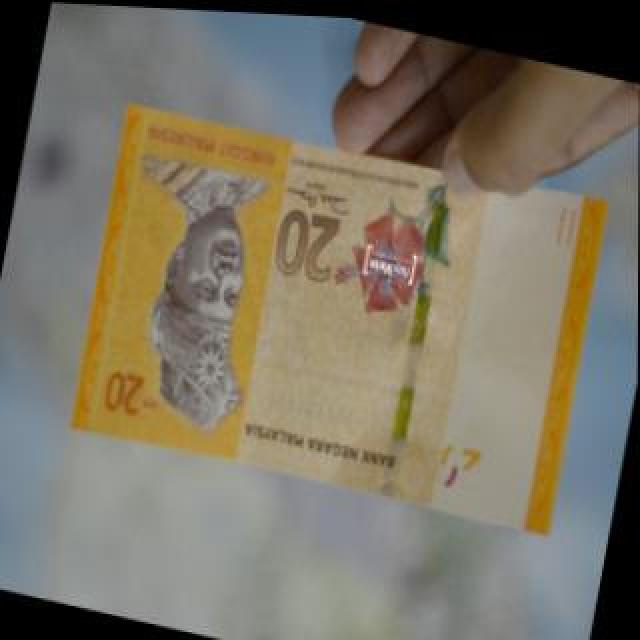20 Ringgit: (68, 90, 616, 530)
